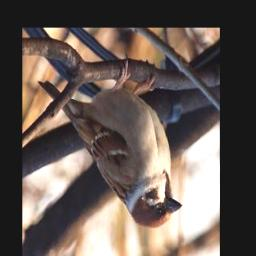Sparrow: (39, 53, 185, 230)
